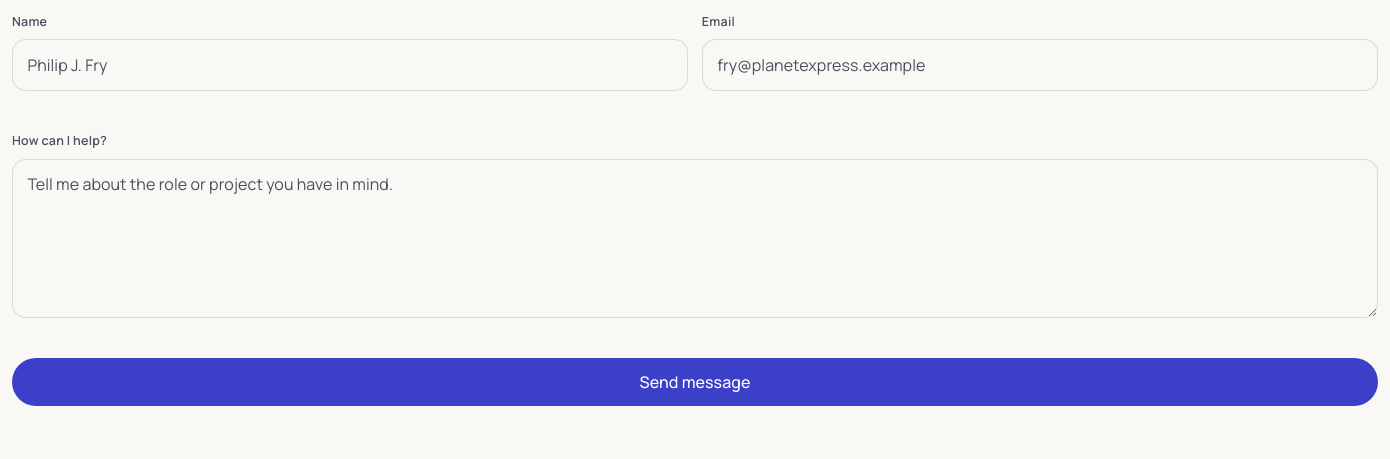
it: ContactForm › submits successfully when data is valid
Step 1. Type "Philip J Fry" into the field labelled "Name" → (350, 65), box [12, 39, 688, 91]
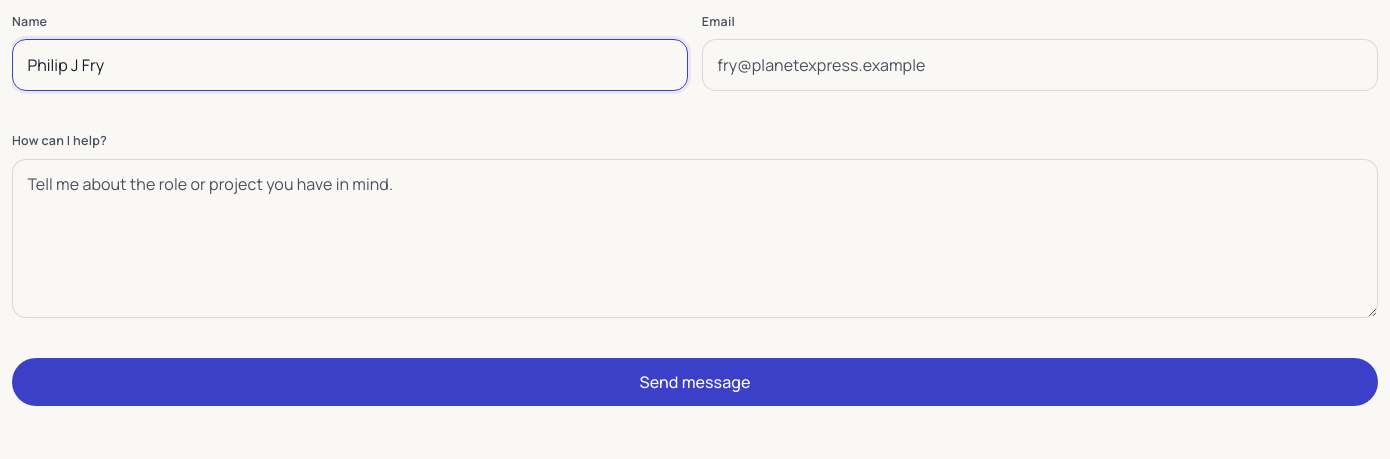
Step 2. Type "fry@planetexpress.com" into the field labelled "Email" → (1040, 65), box [702, 39, 1378, 91]
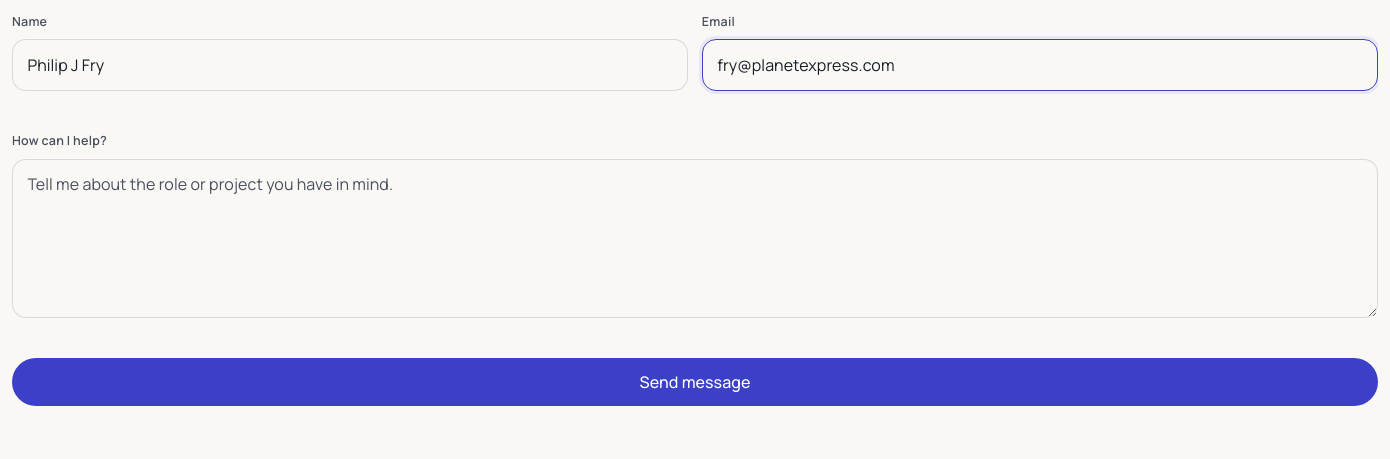
Step 3. Type "Deliver a package to Luna Park" into the text box labelled "How can I help?" → (695, 238), box [12, 159, 1378, 318]
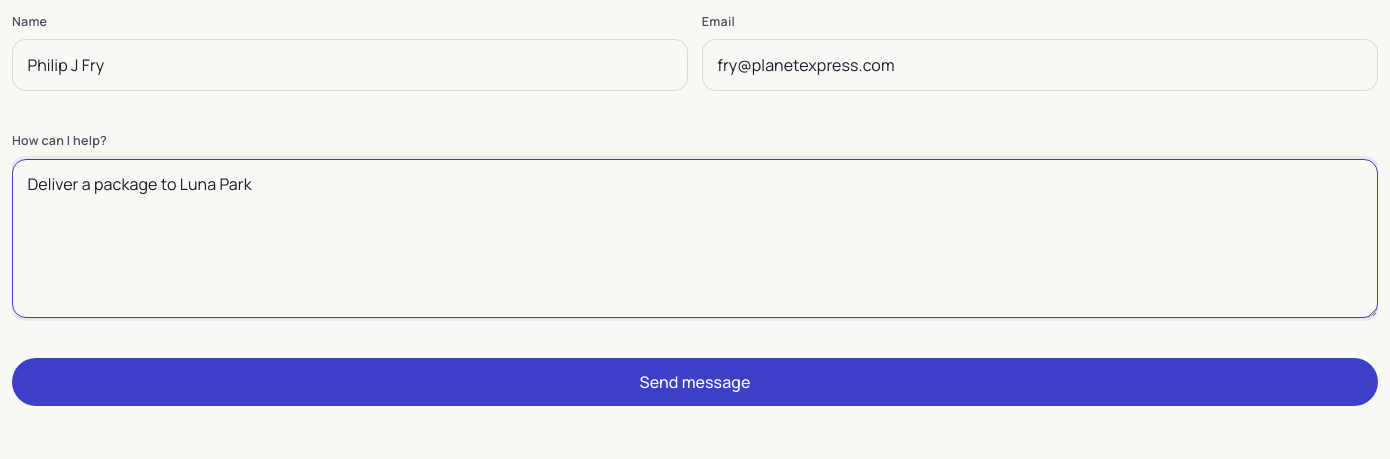
Step 4. Click the button "Send message" → (695, 382), box [12, 358, 1378, 406]
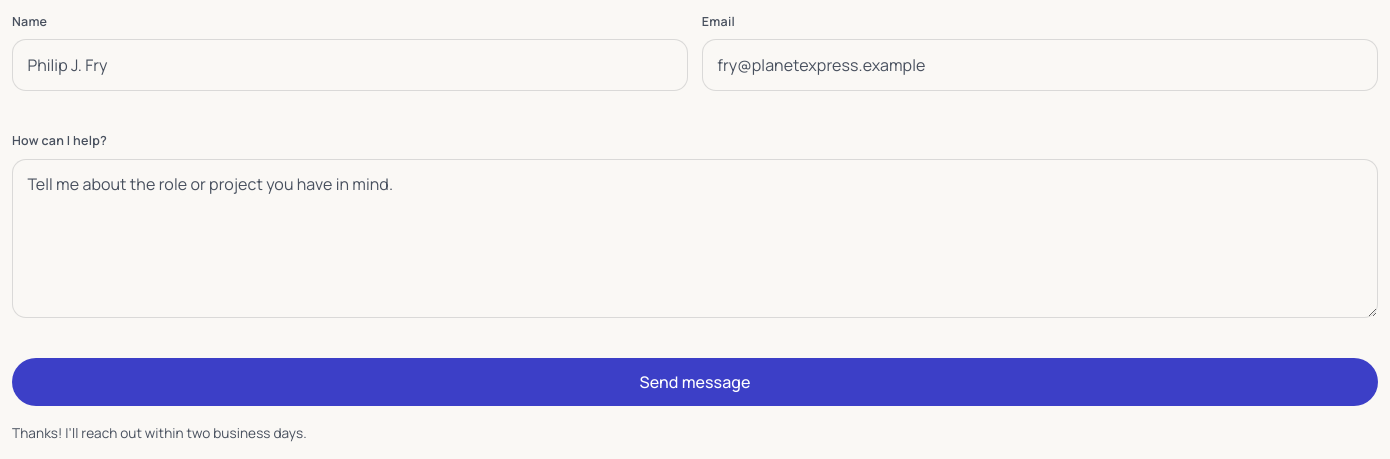
expect the text "Thanks! I’ll reach out within two business days." is shown: met, box [12, 424, 307, 442]
